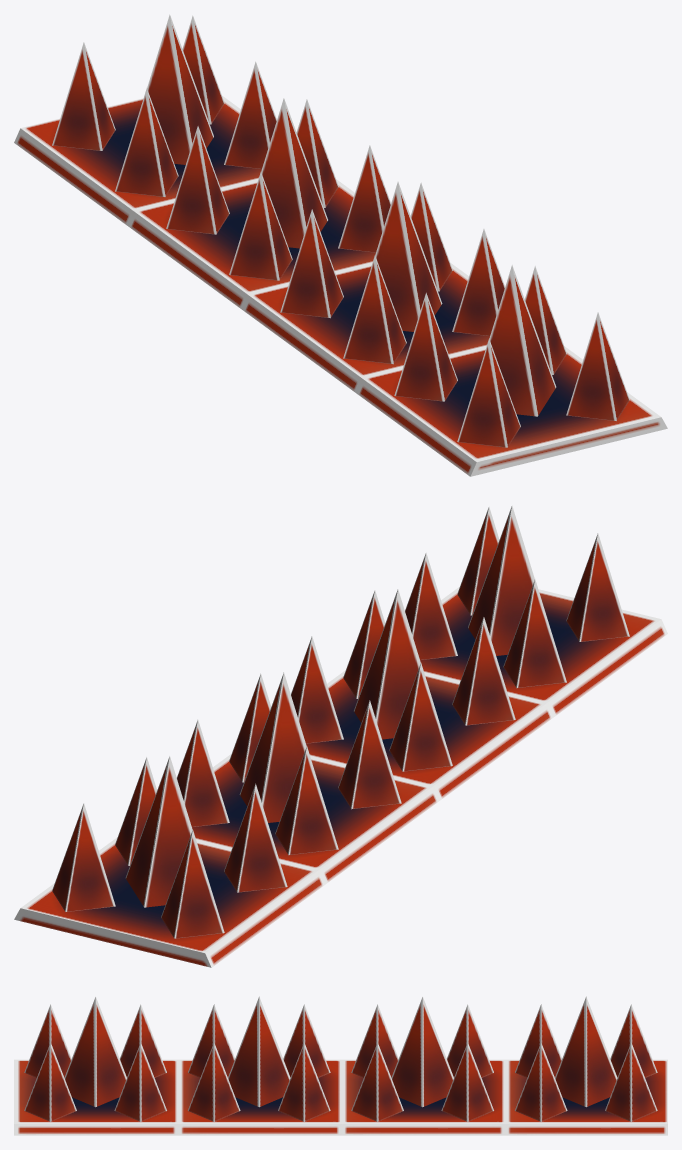
The model's file is MG-ChJ-CS-10JianCi-4.FBX.
3 renders of one model, top to bottom at view 1: azimuth 30°, elevation 25°; view 2: azimuth 150°, elevation 25°; view 3: azimuth 270°, elevation 25°, orthographic. The views are drawn at different scales.
Visible parts, largest first — view 1: MG-ChJ-CS-10JianCi-4; view 2: MG-ChJ-CS-10JianCi-4; view 3: MG-ChJ-CS-10JianCi-4.
Boxes of the visible parts, bbox=[...] form: MG-ChJ-CS-10JianCi-4: bbox=[14, 14, 667, 476]; MG-ChJ-CS-10JianCi-4: bbox=[14, 505, 667, 967]; MG-ChJ-CS-10JianCi-4: bbox=[14, 996, 667, 1135].
Bounding box in the file's own units: 39.37 × 27.87 × 157.
